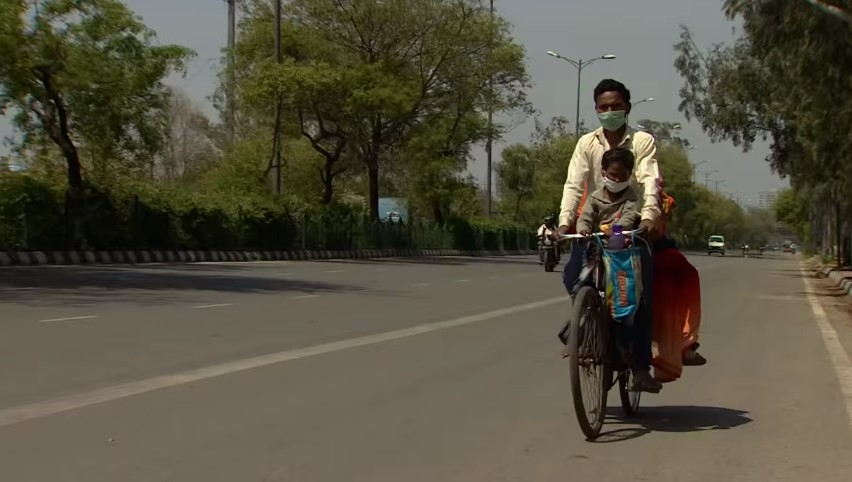face_with_mask: (593, 84, 632, 132), (602, 149, 632, 192)
